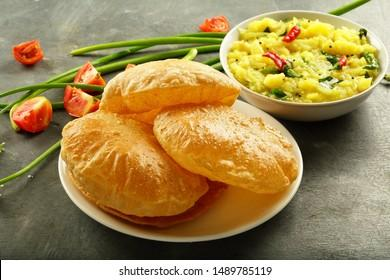puri: (74, 71, 264, 249)
